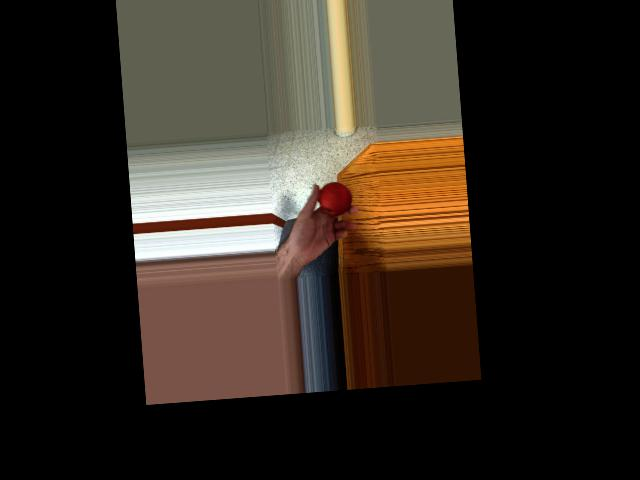apple: (312, 178, 352, 217)
